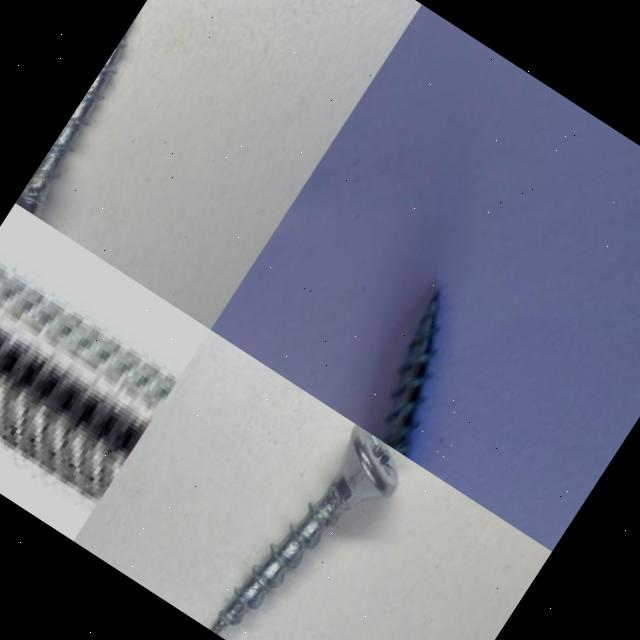Screw: (0, 265, 176, 501), (209, 424, 396, 635), (15, 24, 131, 218), (383, 294, 437, 457)
